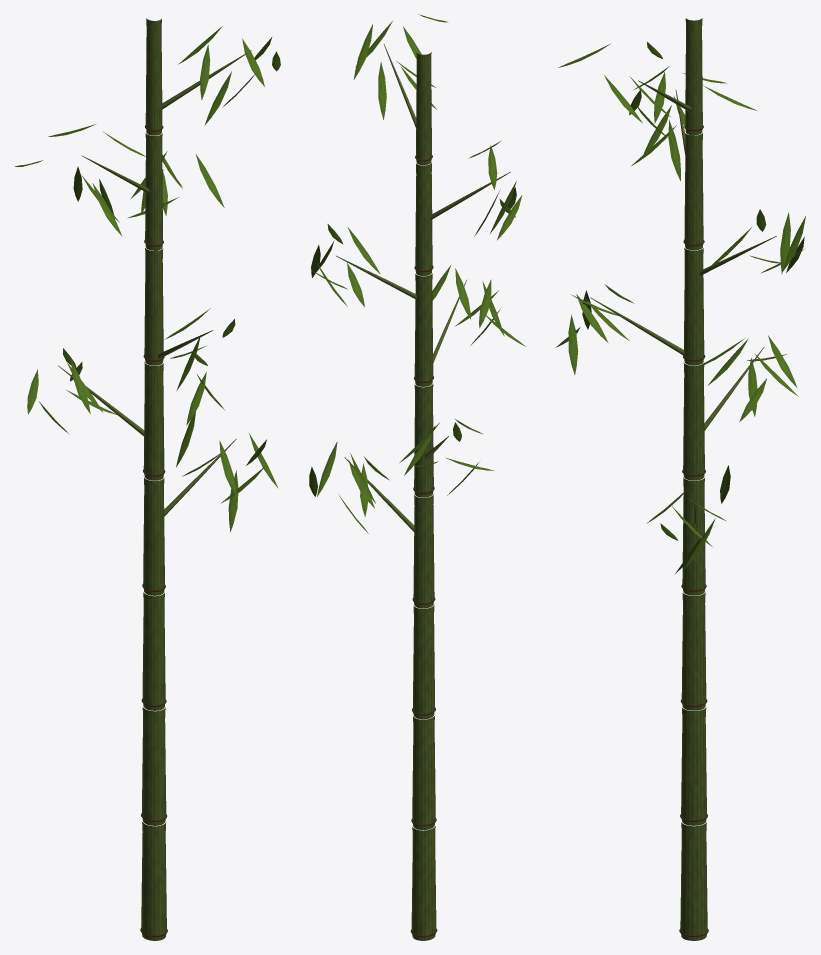
Rendered from bamboo-stalk.glb.
The picture shows the model from 3 angles, left to right: view 1: azimuth 30°, elevation 25°; view 2: azimuth 150°, elevation 25°; view 3: azimuth 270°, elevation 25°; orthographic projection. The views are drawn at different scales.
Parts seen in each view (by area): view 1: bamboo-stalk; view 2: bamboo-stalk; view 3: bamboo-stalk.
Part boxes in pixels (x1=…): bamboo-stalk: x1=15, y1=18, x2=280, y2=940; bamboo-stalk: x1=309, y1=14, x2=525, y2=940; bamboo-stalk: x1=555, y1=18, x2=805, y2=940.
Size of the model in its own units: 0.8463 by 3.23 by 0.803.
3 materials, 3 textured.
